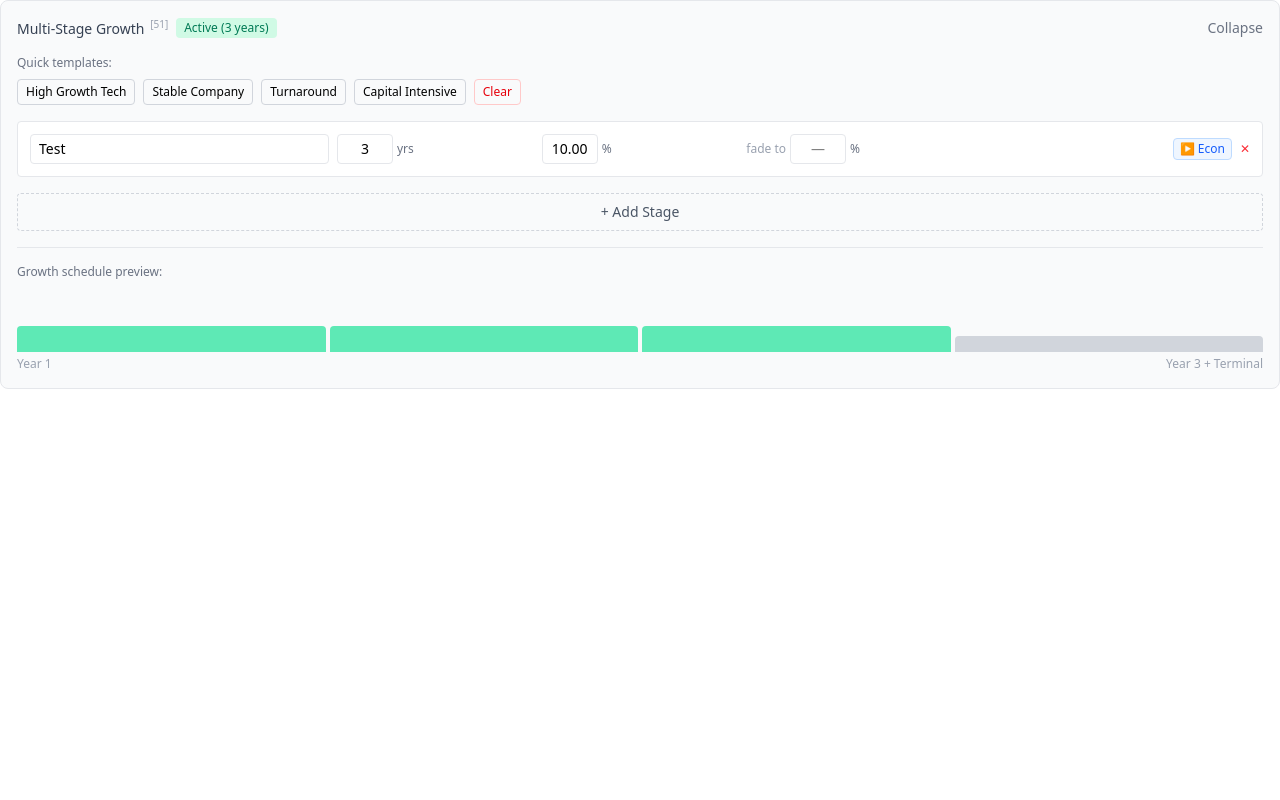
Test: MultiStageGrowth › Fading economics › clears end value when empty string entered
Click the button "▶ Econ" at (1202, 149), box [1173,138,1232,160]
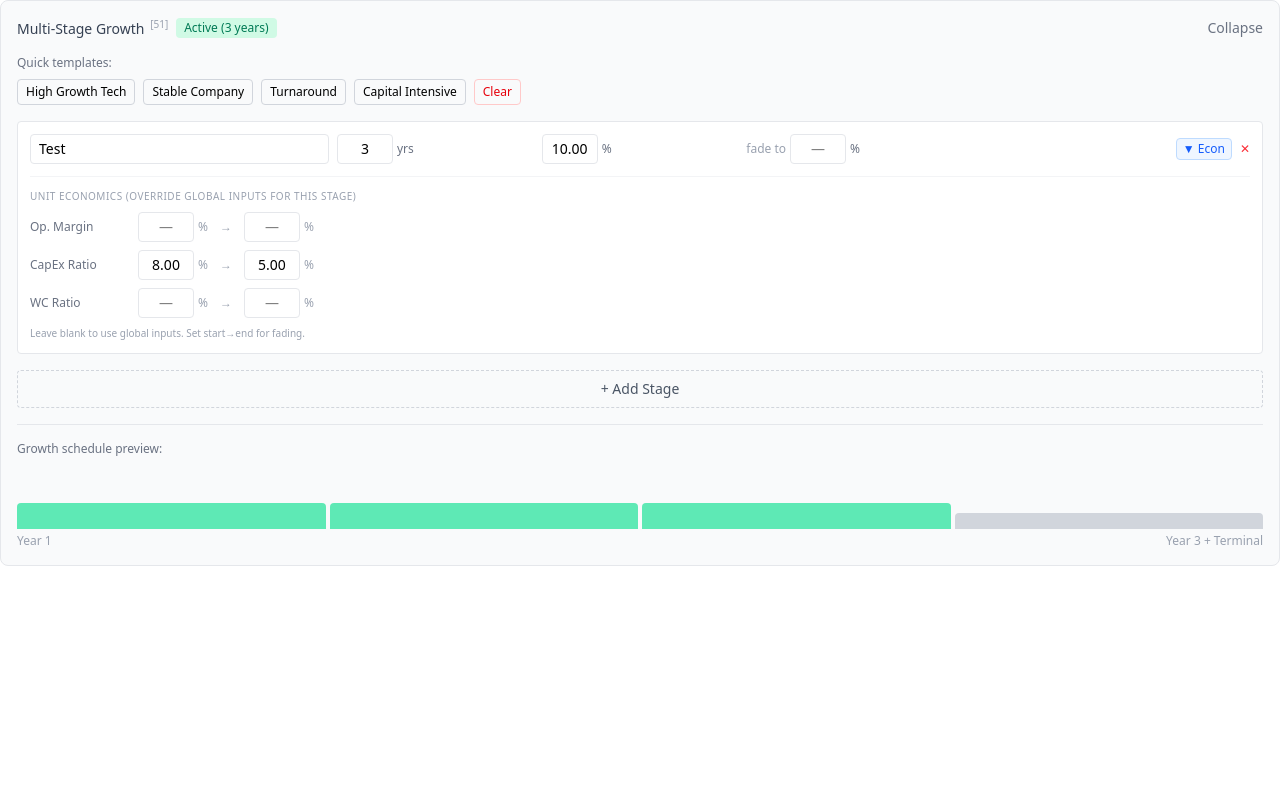
Result: the 7th number field is shown at [244,250,300,280]
